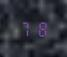eight: (33, 20, 46, 37)
seven: (19, 20, 32, 37)
